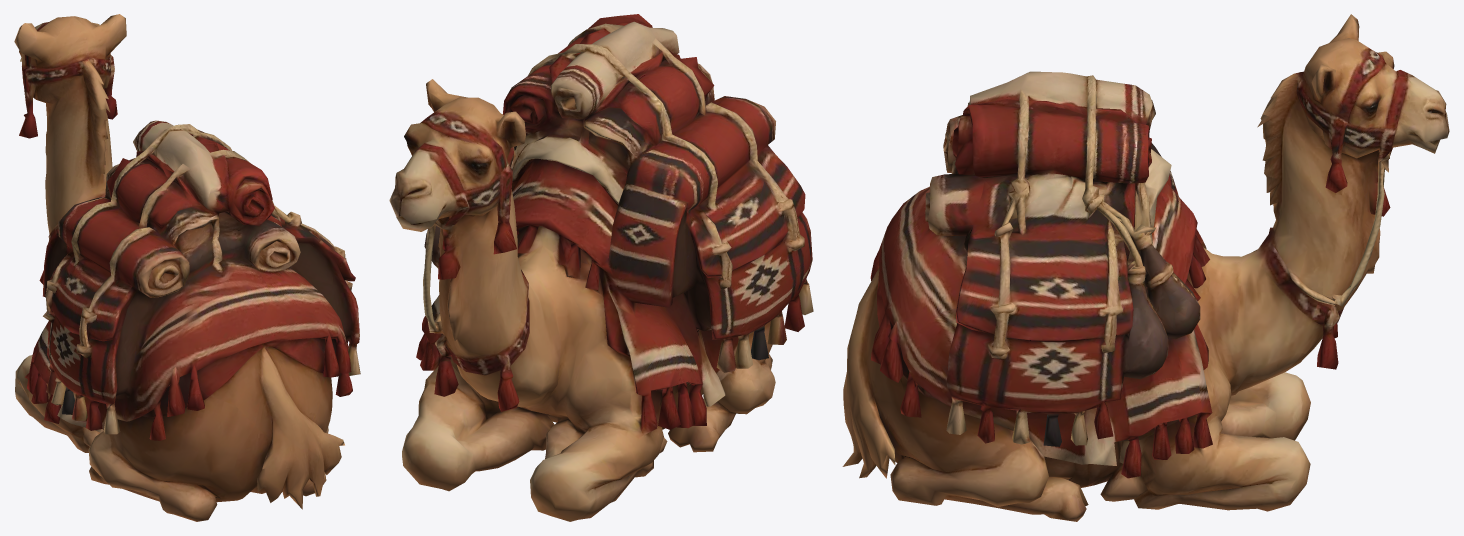
Rendered from camelsit.glb.
3 renders of one model, left to right at view 1: azimuth 30°, elevation 25°; view 2: azimuth 150°, elevation 25°; view 3: azimuth 270°, elevation 25°, orthographic. The views are drawn at different scales.
Parts seen in each view (by area): view 1: tripo_node_1744b403-0501-45f2-8542-b0ae7e42cd02; view 2: tripo_node_1744b403-0501-45f2-8542-b0ae7e42cd02; view 3: tripo_node_1744b403-0501-45f2-8542-b0ae7e42cd02.
Boxes of the visible parts, x1,y1,x2,y2 form: tripo_node_1744b403-0501-45f2-8542-b0ae7e42cd02: (14, 14, 360, 521); tripo_node_1744b403-0501-45f2-8542-b0ae7e42cd02: (389, 14, 813, 521); tripo_node_1744b403-0501-45f2-8542-b0ae7e42cd02: (842, 14, 1449, 521).
Size of the model in its own units: 0.623 by 0.7858 by 1.
1 material, 1 textured.
